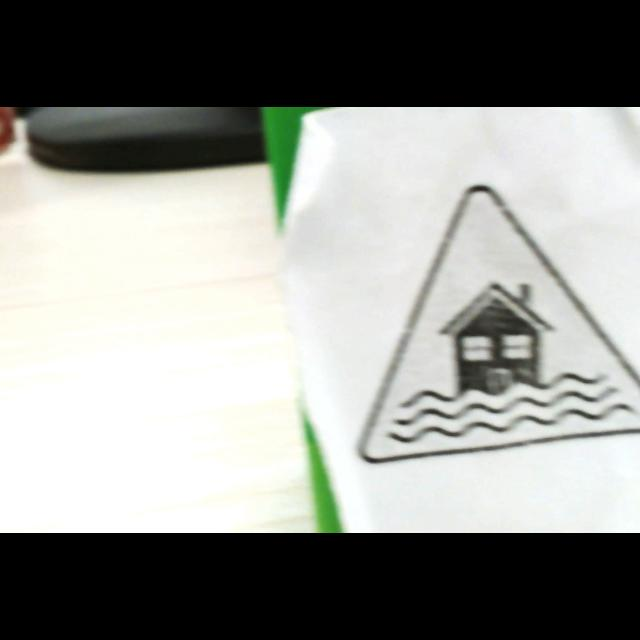Tsunami: (358, 185, 640, 463)
